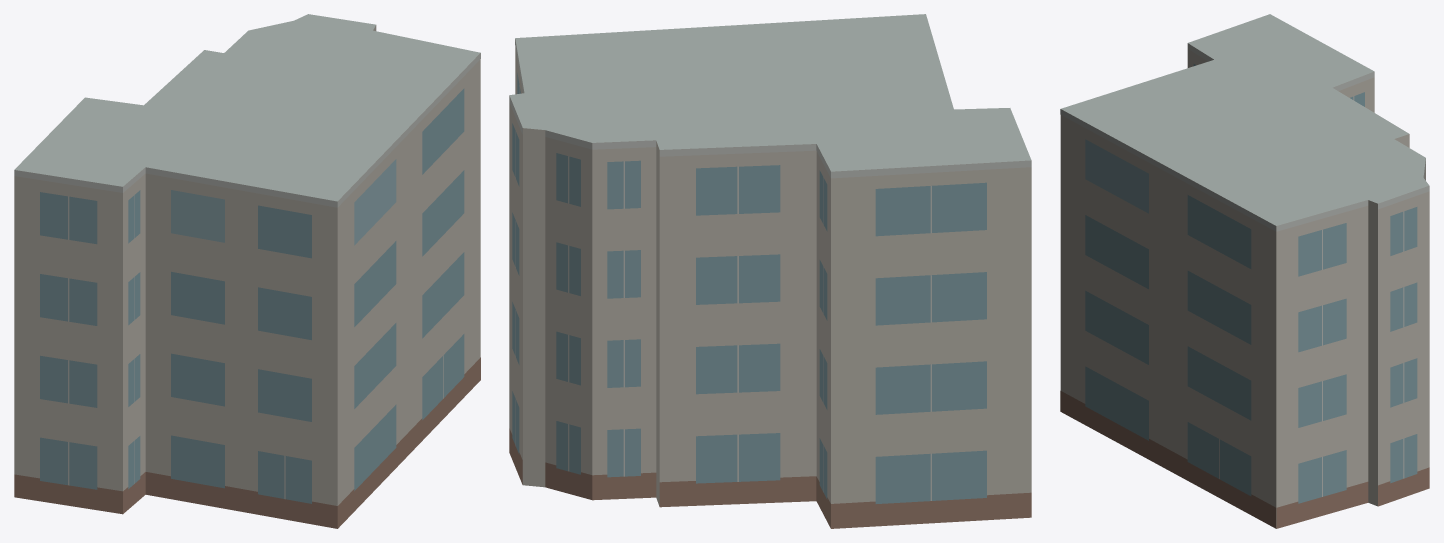
File: survey-upis-32641851.glb
3 views of the same model, side by side, from view 1: azimuth 30°, elevation 25°; view 2: azimuth 150°, elevation 25°; view 3: azimuth 270°, elevation 25° (orthographic). The views are drawn at different scales.
Parts seen in each view (by area): view 1: survey-upis-32641851.tmp; view 2: survey-upis-32641851.tmp; view 3: survey-upis-32641851.tmp.
Part boxes in pixels (x1=…): survey-upis-32641851.tmp: x1=14, y1=14, x2=480, y2=528; survey-upis-32641851.tmp: x1=509, y1=14, x2=1031, y2=528; survey-upis-32641851.tmp: x1=1060, y1=14, x2=1429, y2=528.
Size of the model in its own units: 19.39 by 12.9 by 14.25.
